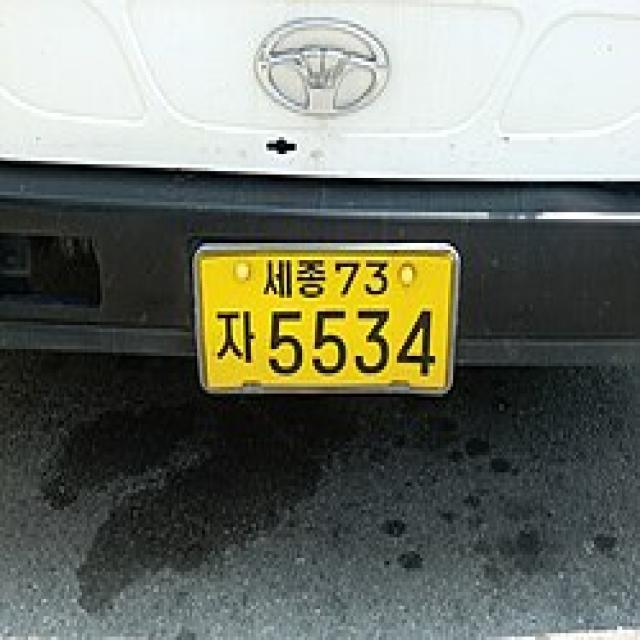car: (174, 207, 484, 422)
